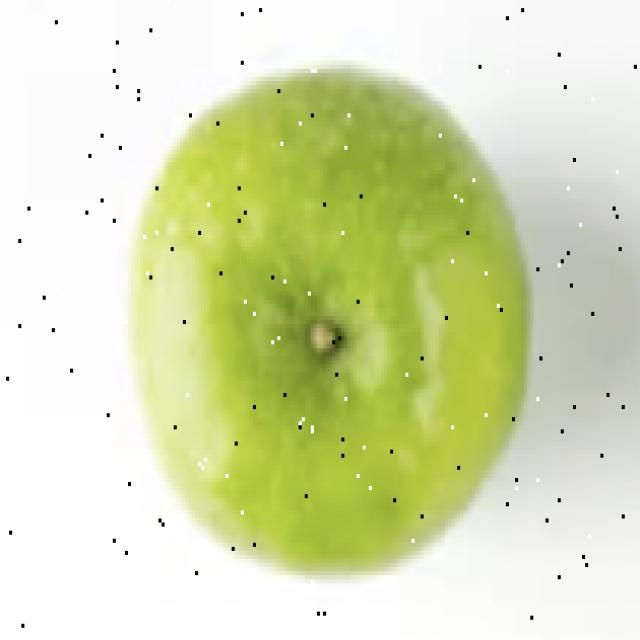Fresh Apple: (131, 55, 531, 579)
